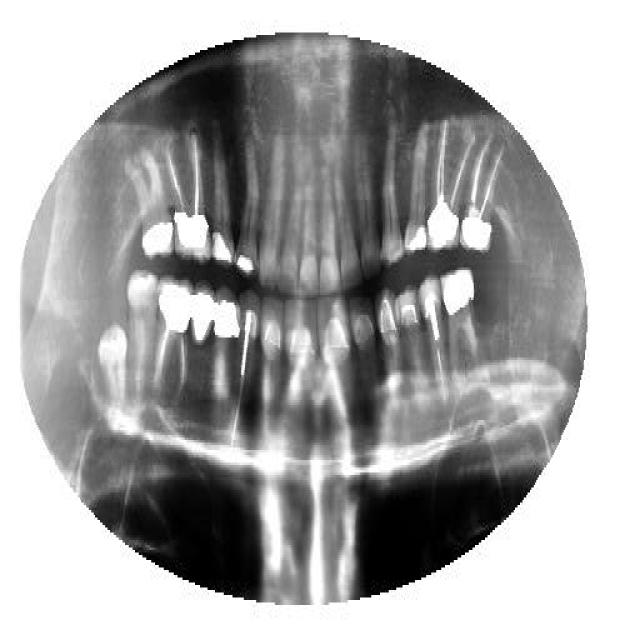Fillings: (125, 148, 174, 262), (441, 260, 479, 375), (402, 125, 428, 263), (235, 137, 260, 275), (212, 132, 234, 270), (214, 285, 240, 355), (190, 282, 215, 350)
Implant: (427, 120, 475, 258), (165, 130, 210, 265), (459, 133, 505, 255), (228, 287, 258, 455), (154, 273, 192, 405), (418, 275, 448, 407)
